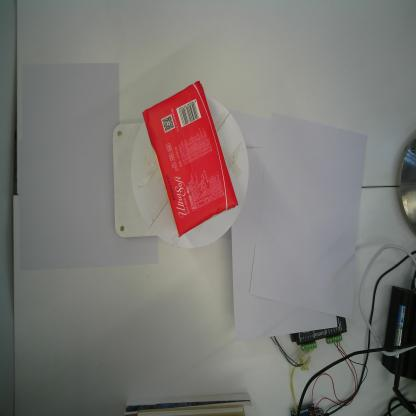Tissue: (140, 78, 241, 240)
